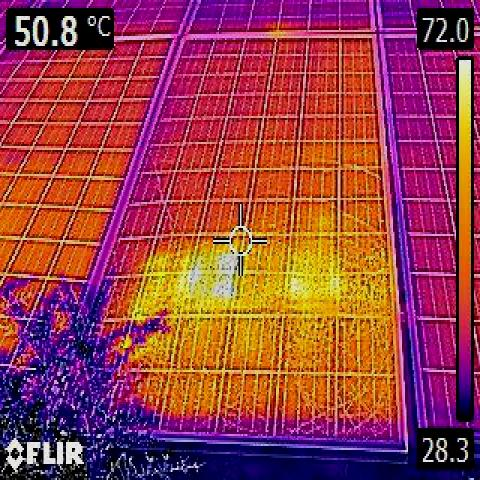fault: (190, 252, 241, 300)
